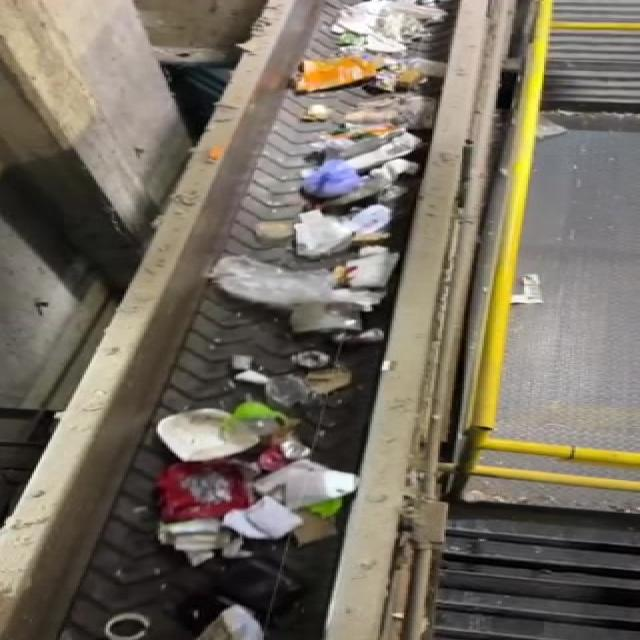pet: (219, 396, 292, 448)
ps: (142, 404, 254, 469)
